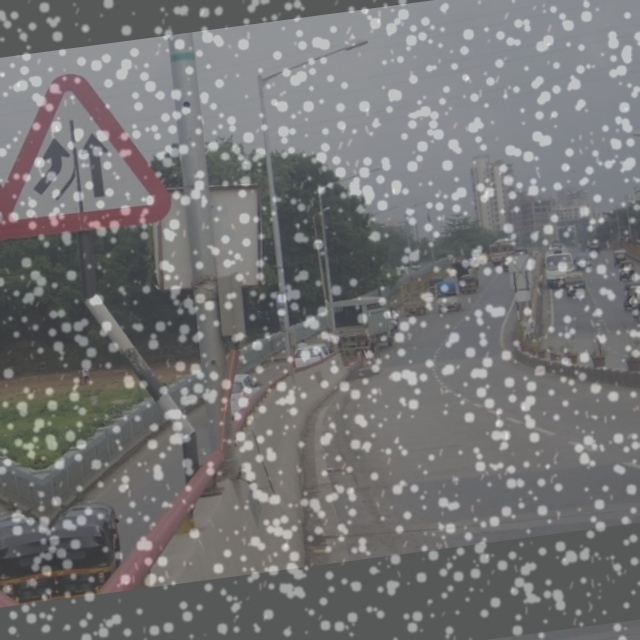Merge_Traffic_Ahead: (3, 70, 172, 241)
